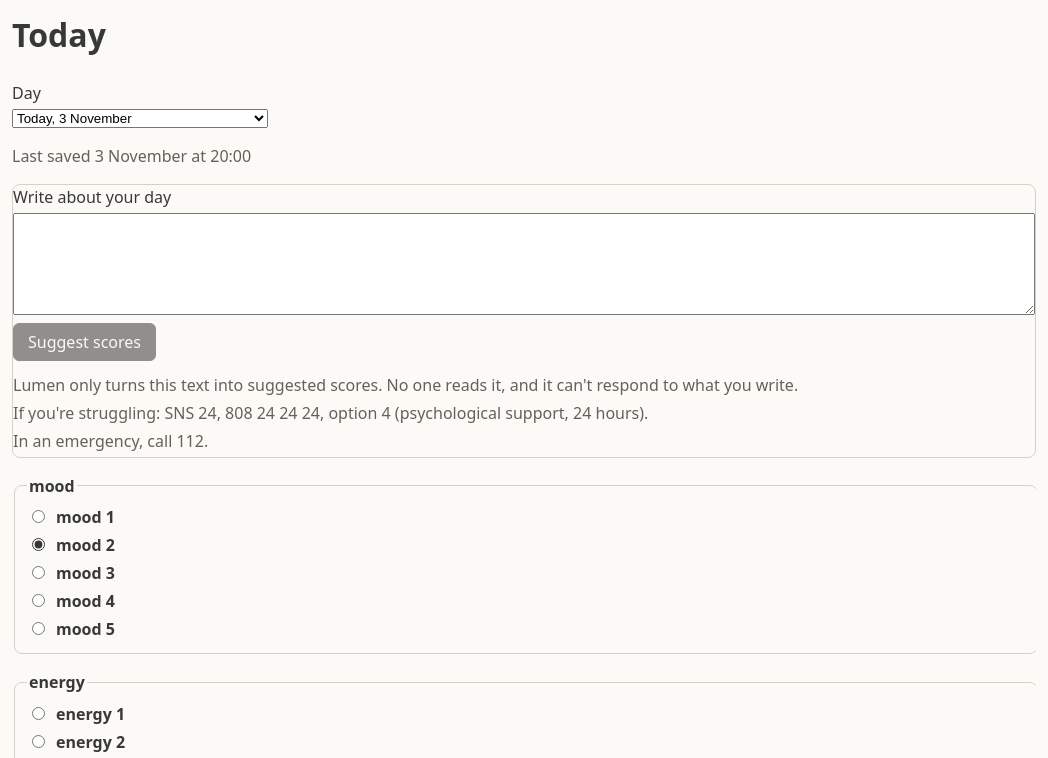
it: a day that already has a check-in › keeps an answer to a dimension that isn't prompted today when saved again
What coordinates should you click on to do the following:
click the radio button labelled "mood 3"
I would click on:
 (38, 573)
Its box is x1=32 y1=566 x2=45 y2=580.
(page scrolled)
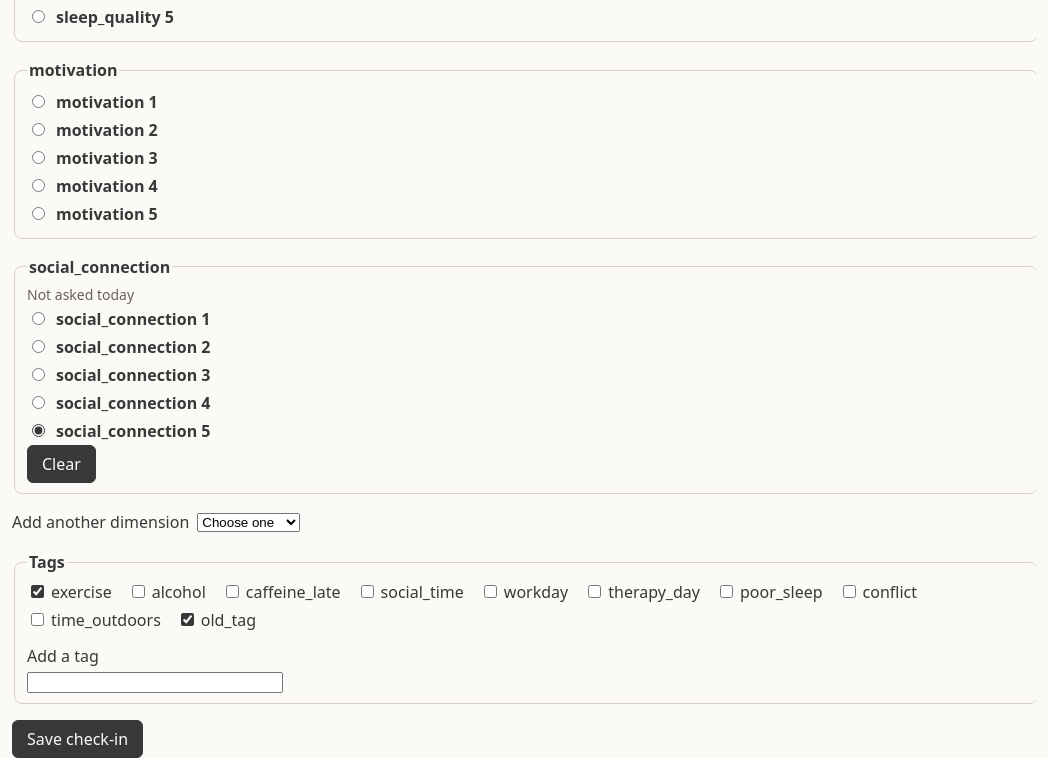
What coordinates should you click on to do the following:
click the button "Save check-in"
I would click on:
 (78, 739)
Its box is x1=12 y1=720 x2=143 y2=757.
(page scrolled)
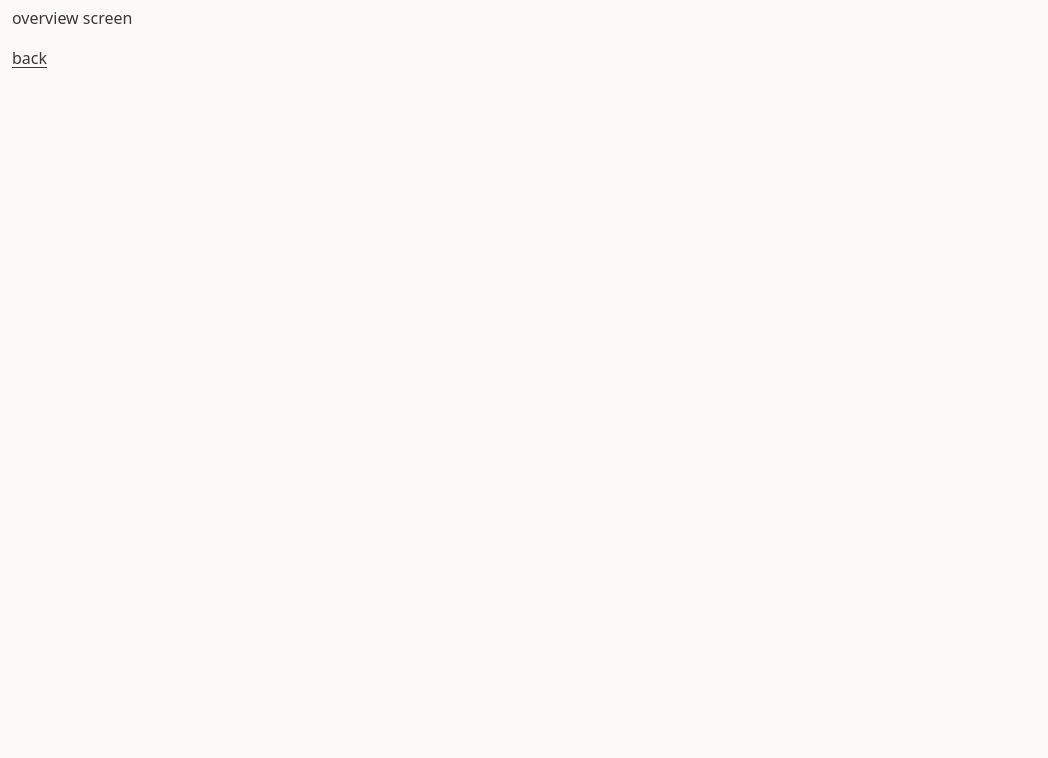
Result: the text "overview screen" is shown at x1=12 y1=7 x2=132 y2=29
